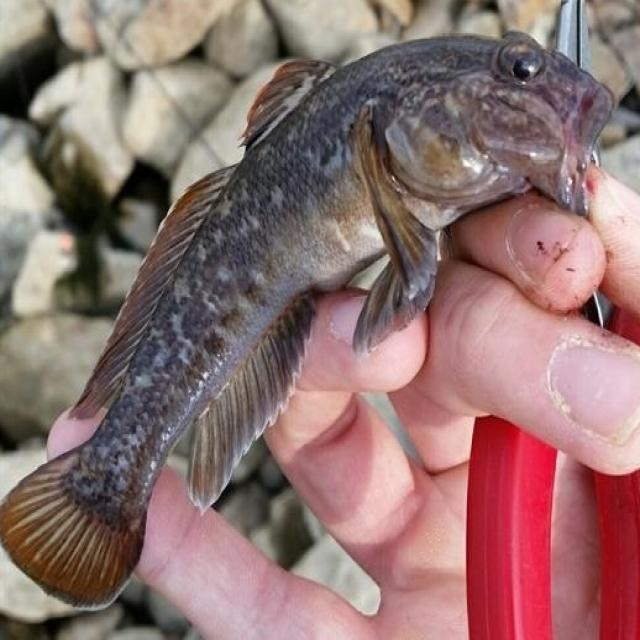Goby: (20, 0, 589, 620)
